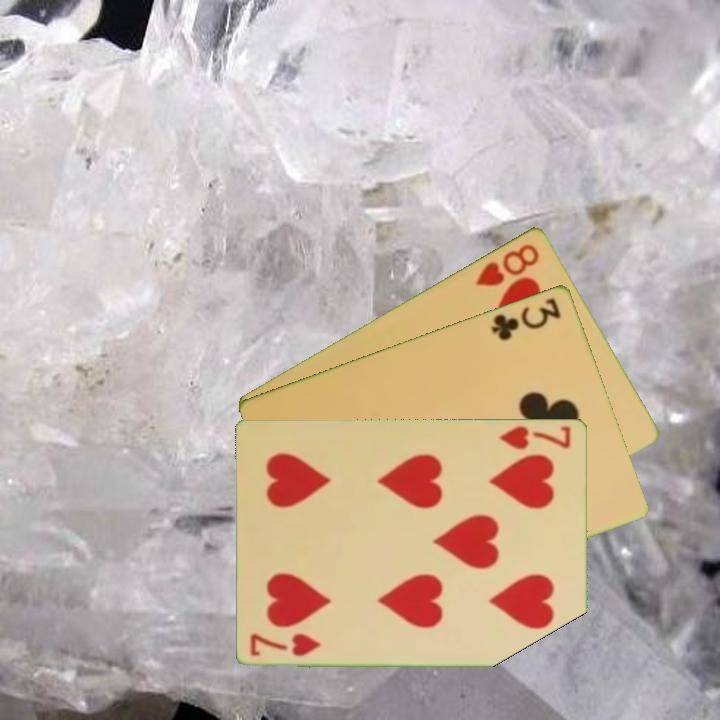3c: (488, 293, 564, 343)
7h: (496, 421, 574, 452), (247, 629, 324, 658)
8h: (472, 239, 543, 289)
